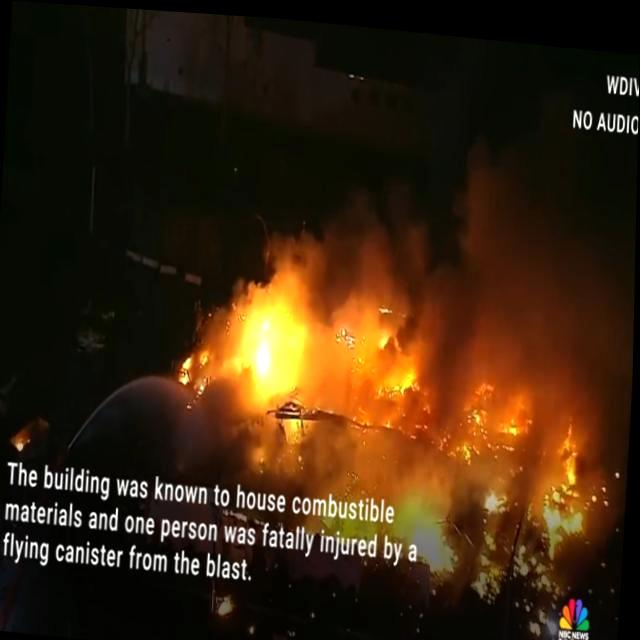fire: (458, 378, 586, 502), (328, 303, 427, 403), (252, 405, 378, 475), (395, 480, 477, 570), (242, 294, 314, 386)
